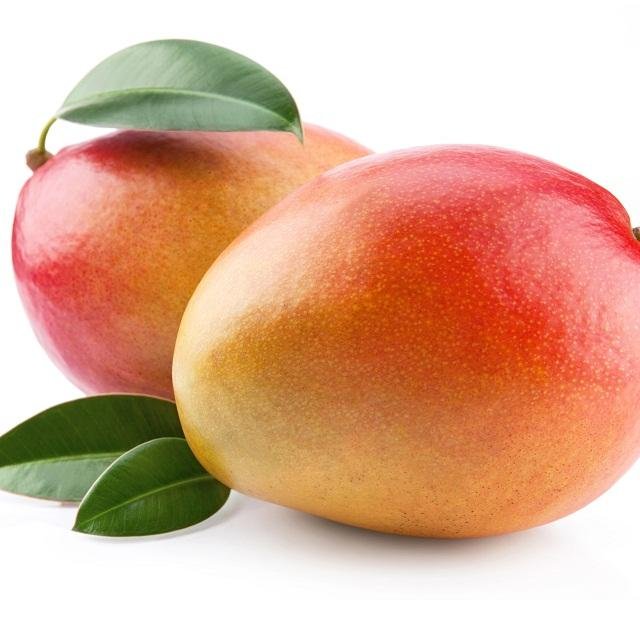mango: (0, 27, 640, 556)
